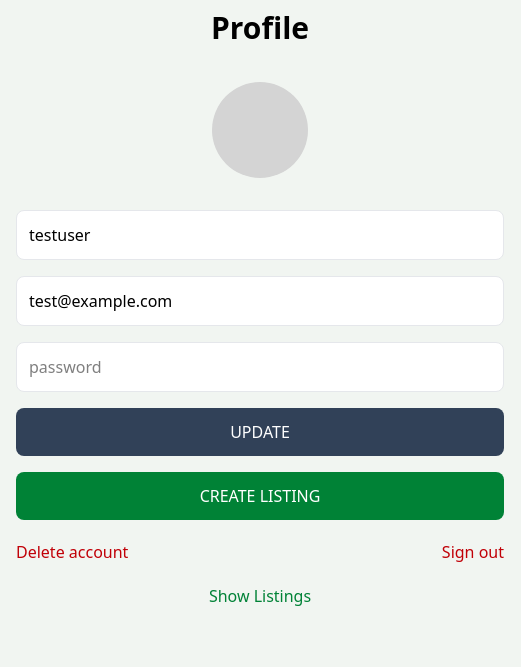
Test: Profile Component › shows an error message if user deletion fails (catch block)
The image size is (521, 667).
Clicking "Delete account"
Click the text "Delete account" at point(72, 552), box [16,540,128,564]
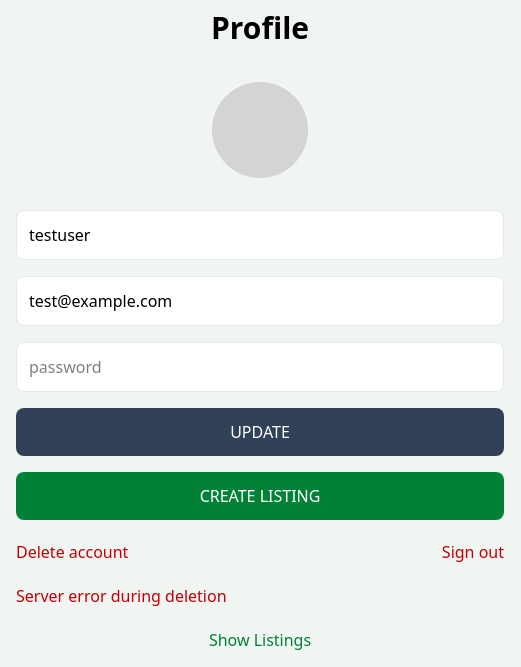
Check: the text "Server error during deletion" is shown, box [16,585,226,607]
